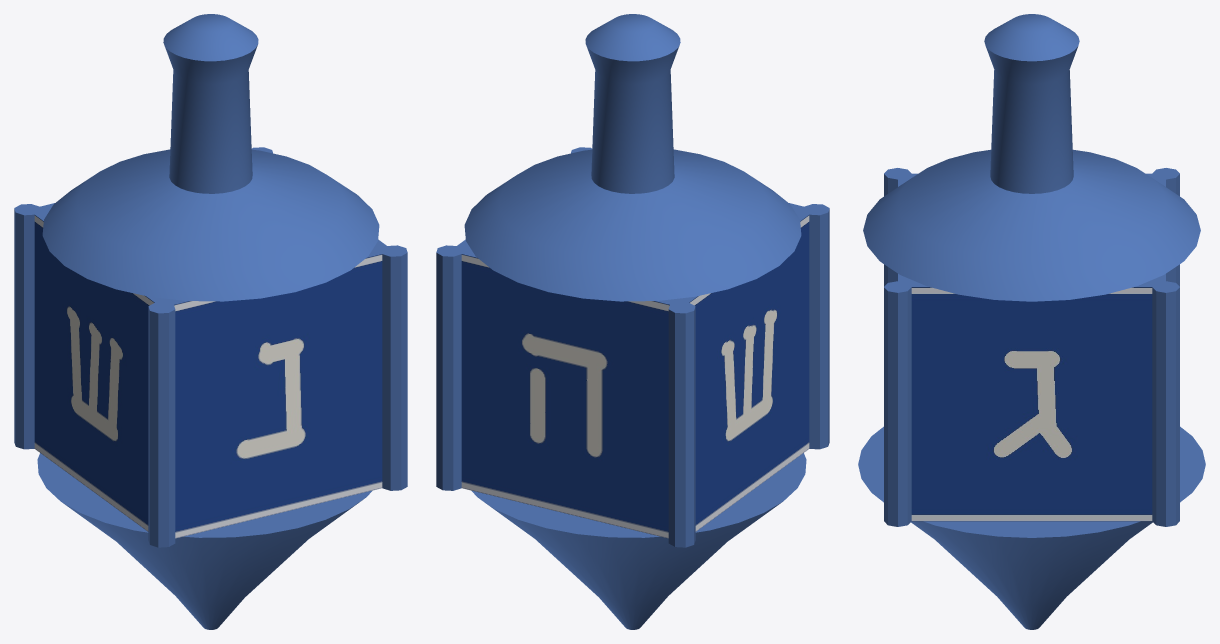
Rendered from dreidel_blue.glb.
3 views of the same model, side by side, from view 1: azimuth 30°, elevation 25°; view 2: azimuth 150°, elevation 25°; view 3: azimuth 270°, elevation 25° (orthographic).
Visible parts, largest first — view 1: Dreidel_blue; view 2: Dreidel_blue; view 3: Dreidel_blue.
Boxes of the visible parts, bbox=[...] form: Dreidel_blue: bbox=[14, 14, 407, 629]; Dreidel_blue: bbox=[436, 14, 829, 629]; Dreidel_blue: bbox=[858, 14, 1205, 629].
Size of the model in its own units: 0.035 by 0.067 by 0.035.
2 materials, 1 textured.
